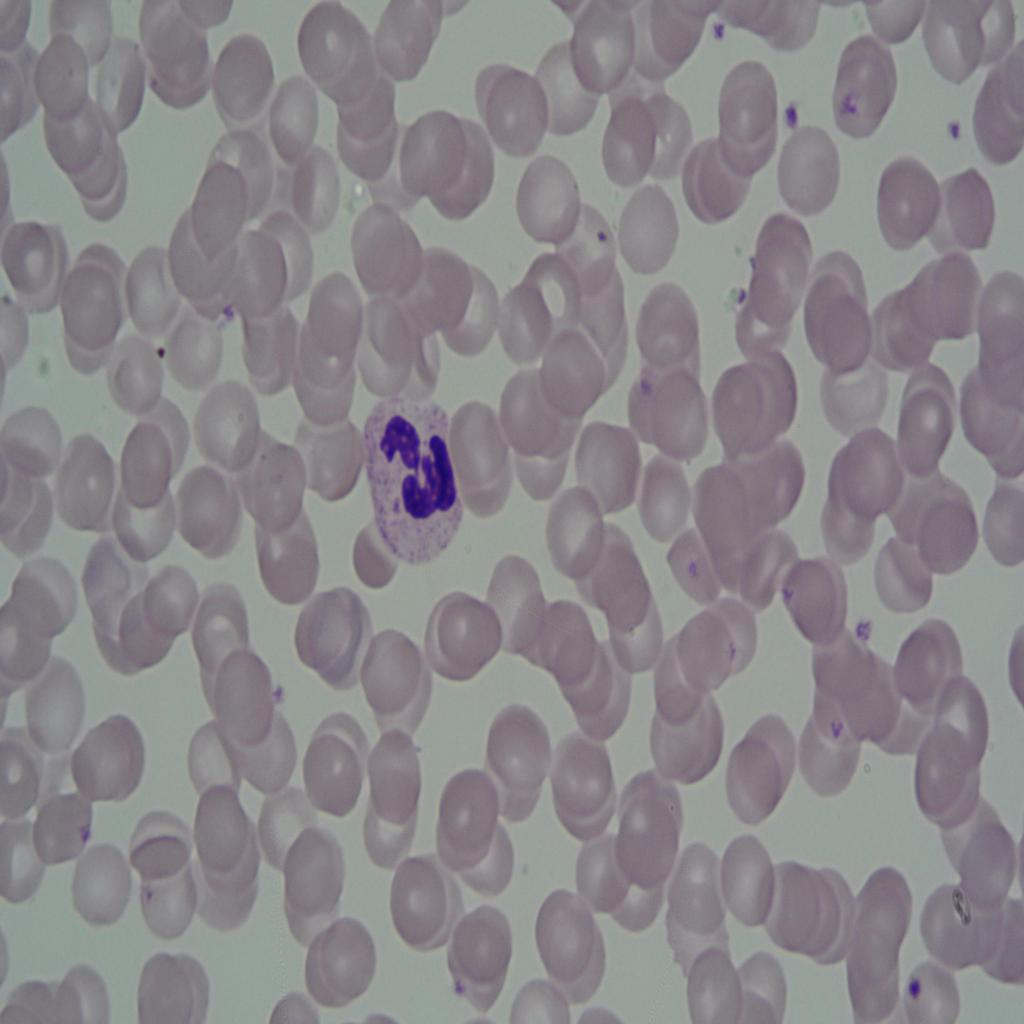Neutrofil: (353, 387, 471, 576)
Platelet: (851, 602, 876, 655), (901, 970, 925, 1020), (707, 16, 736, 56), (781, 84, 801, 132), (266, 673, 289, 704), (946, 113, 970, 139)
